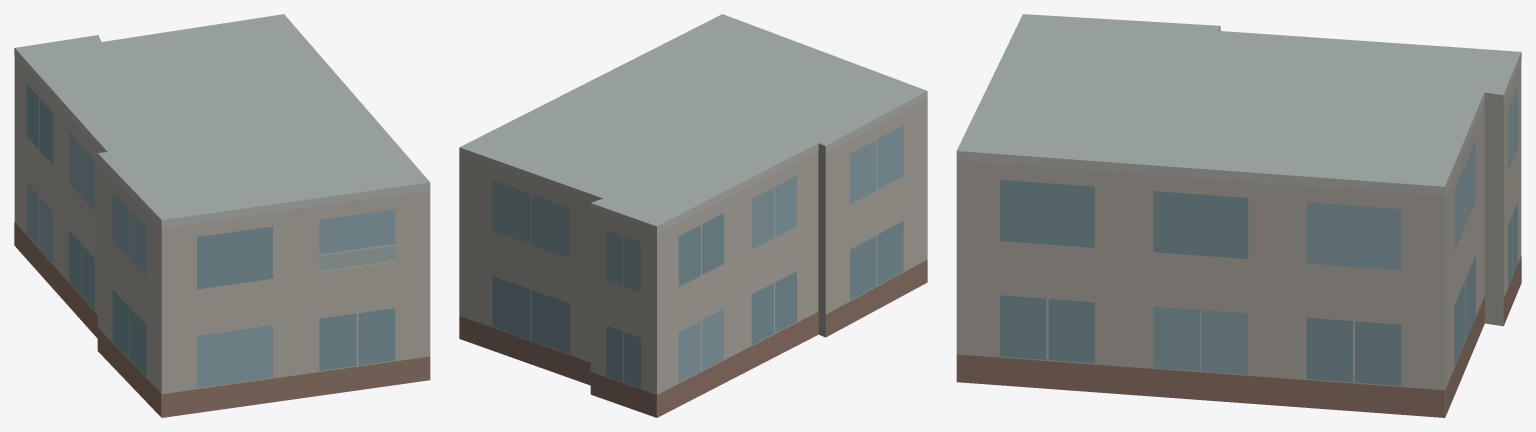
File: survey-upis-32665146.glb
The picture shows the model from 3 angles, left to right: view 1: azimuth 30°, elevation 25°; view 2: azimuth 150°, elevation 25°; view 3: azimuth 270°, elevation 25°; orthographic projection. The views are drawn at different scales.
Parts seen in each view (by area): view 1: survey-upis-32665146.tmp; view 2: survey-upis-32665146.tmp; view 3: survey-upis-32665146.tmp.
Boxes of the visible parts, x1,y1,x2,y2 form: survey-upis-32665146.tmp: (14, 14, 430, 417); survey-upis-32665146.tmp: (459, 14, 927, 417); survey-upis-32665146.tmp: (956, 14, 1521, 417).
Bounding box in the file's own units: 9.79 × 6.1 × 13.53.
